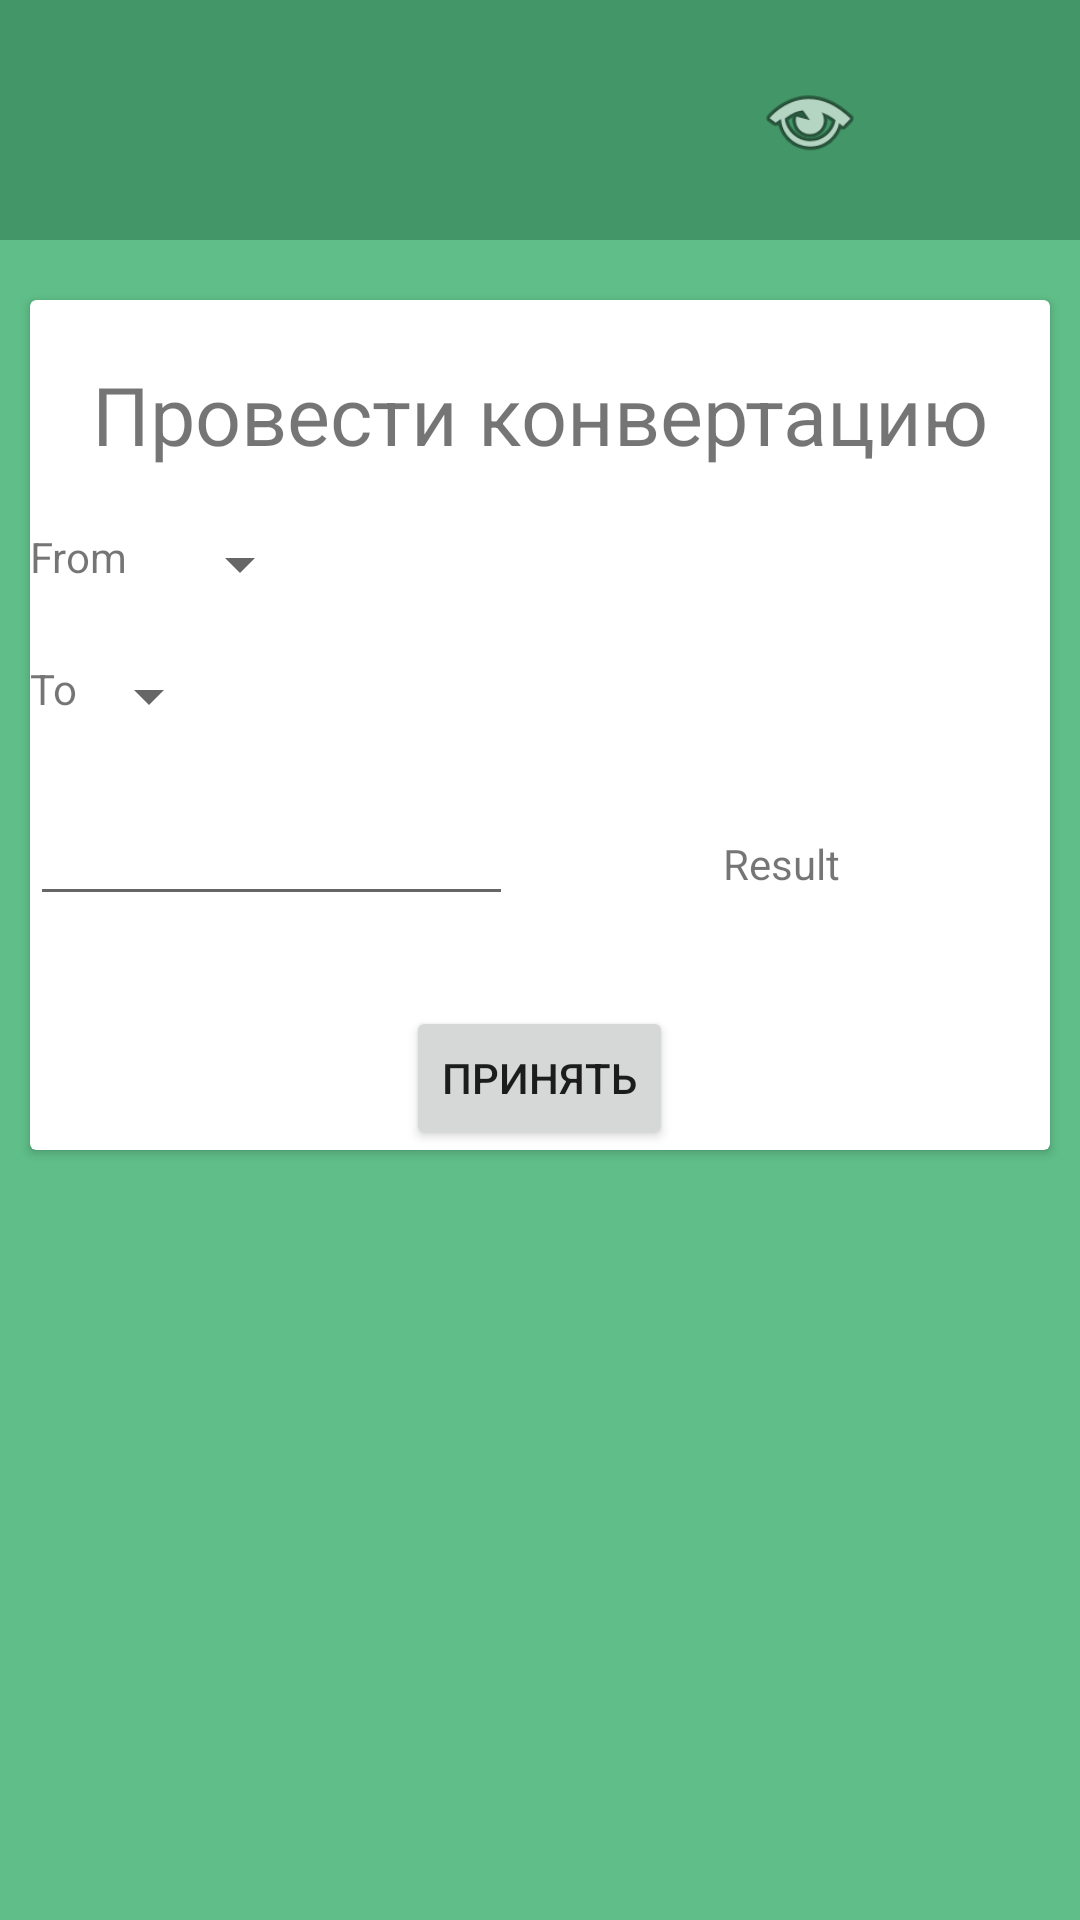

Screen size 1080w x 1920h. Icon name, then its box in pixels as BBox(x1, y1, x2, y2):
view: BBox(766, 95, 854, 150)
